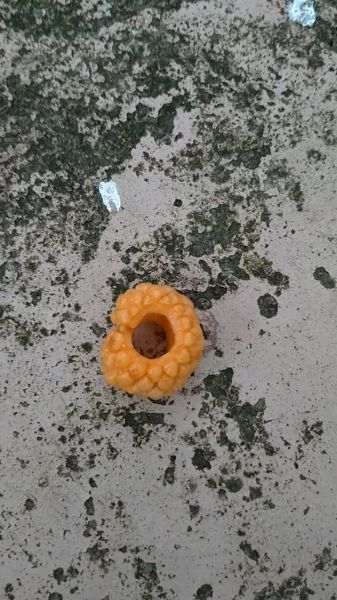eggs: (89, 275, 212, 403)
